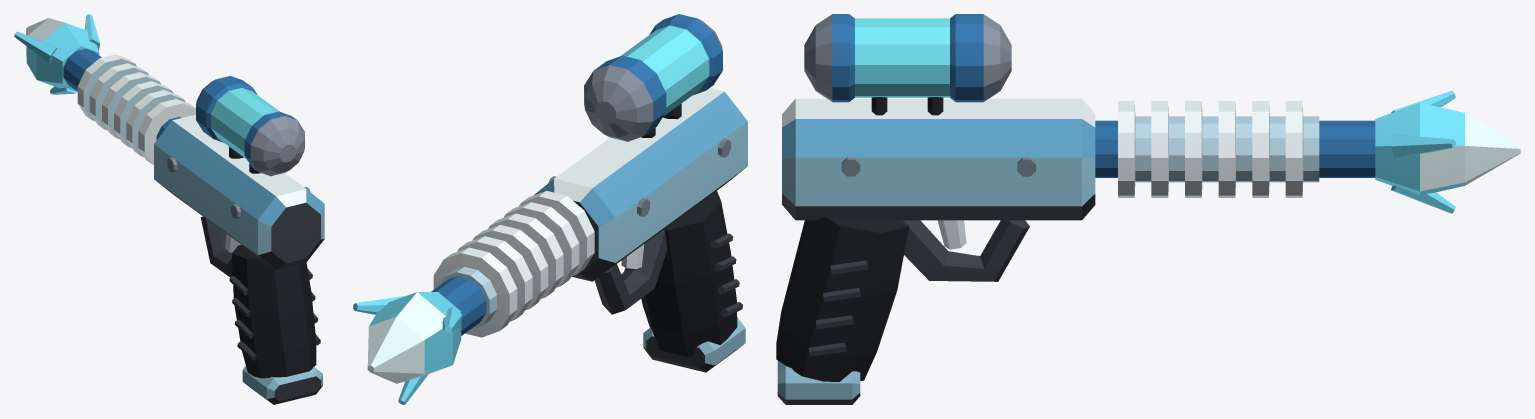
The model's file is IceCannon.fbx.
3 views of the same model, side by side, from view 1: azimuth 30°, elevation 25°; view 2: azimuth 150°, elevation 25°; view 3: azimuth 270°, elevation 25° (orthographic). The views are drawn at different scales.
Parts seen in each view (by area): view 1: Body, Grip, FrostFins, CryoTank, Crystal, GripHeel, Guard, Shards, Barrel, GripRibs; view 2: Body, FrostFins, CryoTank, Grip, Crystal, Guard, GripHeel, Barrel, Shards, GripRibs, Bolts; view 3: Body, FrostFins, CryoTank, Grip, Crystal, Guard, Barrel, GripHeel, Shards, GripRibs, Bolts.
Boxes of the visible parts, x1,y1,x2,y2 form: Body: (154, 114, 324, 269); Grip: (232, 244, 316, 378); FrostFins: (77, 54, 195, 164); CryoTank: (196, 76, 304, 176); Crystal: (26, 18, 99, 90); GripHeel: (242, 366, 322, 404); Guard: (200, 216, 240, 277); Shards: (14, 14, 99, 94); Barrel: (63, 48, 181, 139); GripRibs: (229, 269, 320, 360); Body: (534, 88, 747, 281); FrostFins: (433, 190, 594, 337); CryoTank: (584, 14, 722, 141); Grip: (641, 190, 737, 356); Crystal: (367, 292, 461, 383); Guard: (594, 227, 667, 314); GripHeel: (643, 317, 745, 372); Barrel: (431, 276, 486, 335); Shards: (353, 296, 462, 404); GripRibs: (710, 233, 742, 317); Bolts: (548, 138, 730, 216); Body: (782, 98, 1095, 220); FrostFins: (1118, 101, 1319, 197); CryoTank: (804, 14, 1011, 102); Grip: (776, 217, 908, 381); Crystal: (1375, 102, 1520, 194); Guard: (896, 220, 1029, 281); Barrel: (1095, 120, 1375, 177); GripHeel: (777, 360, 860, 404); Shards: (1391, 90, 1455, 213); GripRibs: (808, 260, 867, 356); Bolts: (841, 157, 1035, 176).
Size of the model in its own units: 0.1101 by 0.3666 by 0.6653.
Materials: 1 (1 with a texture image).
